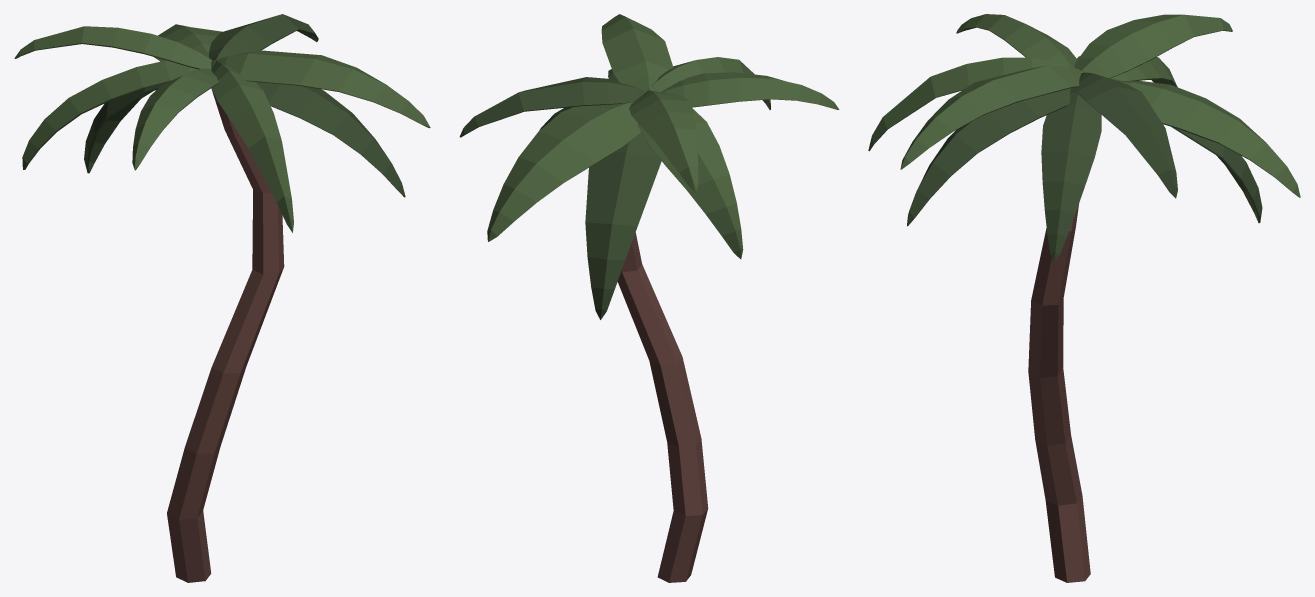
Rendered from palmtree_3.gltf.
3 renders of one model, left to right at view 1: azimuth 30°, elevation 25°; view 2: azimuth 150°, elevation 25°; view 3: azimuth 270°, elevation 25°, orthographic. The views are drawn at different scales.
Parts seen in each view (by area): view 1: palmtree_3; view 2: palmtree_3; view 3: palmtree_3.
Boxes of the visible parts, x1,y1,x2,y2 form: palmtree_3: (14,14,430,582); palmtree_3: (459,14,839,582); palmtree_3: (868,14,1300,582).
Size of the model in its own units: 1.31 by 2.23 by 1.63.
Materials: 1 (1 with a texture image).
